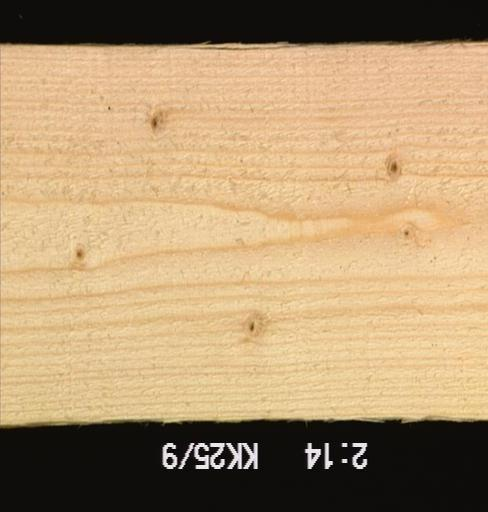small_knot: (145, 106, 172, 142), (242, 310, 266, 340), (381, 154, 405, 184), (395, 223, 417, 246), (70, 242, 89, 266)
